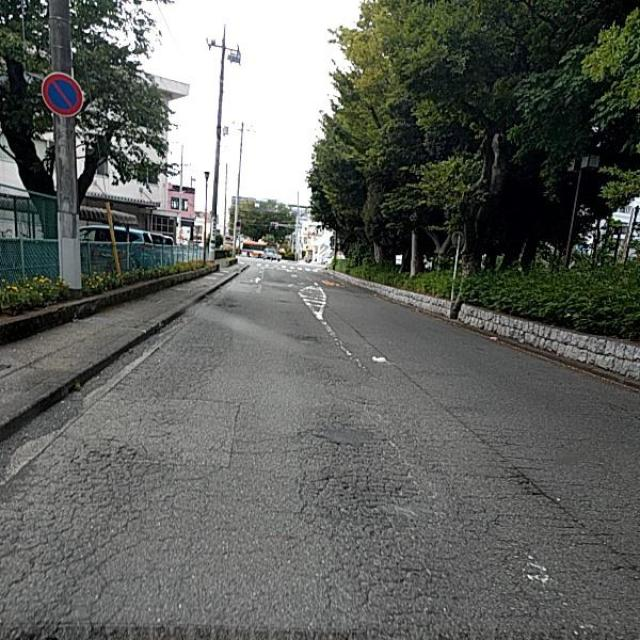Crack: (84, 336, 640, 640)
